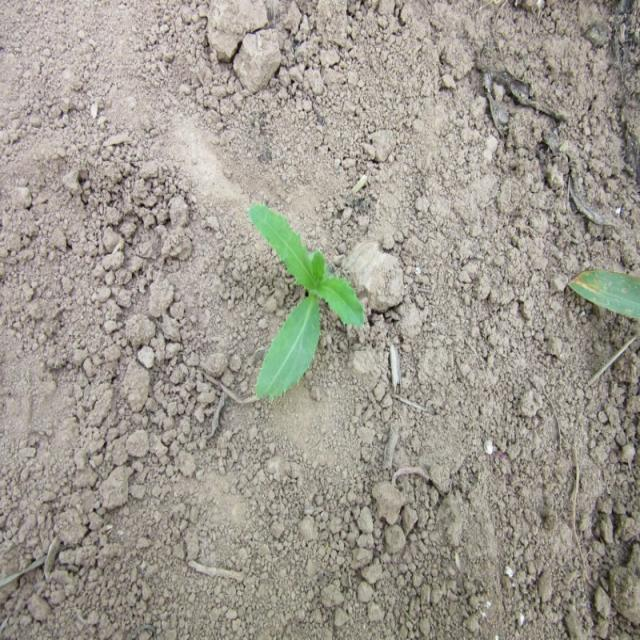cs: (246, 194, 373, 407)
